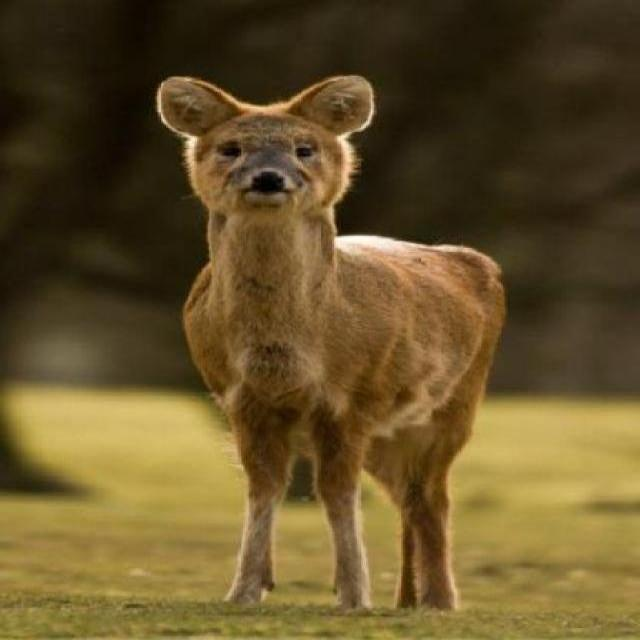deer: (132, 72, 514, 612)
